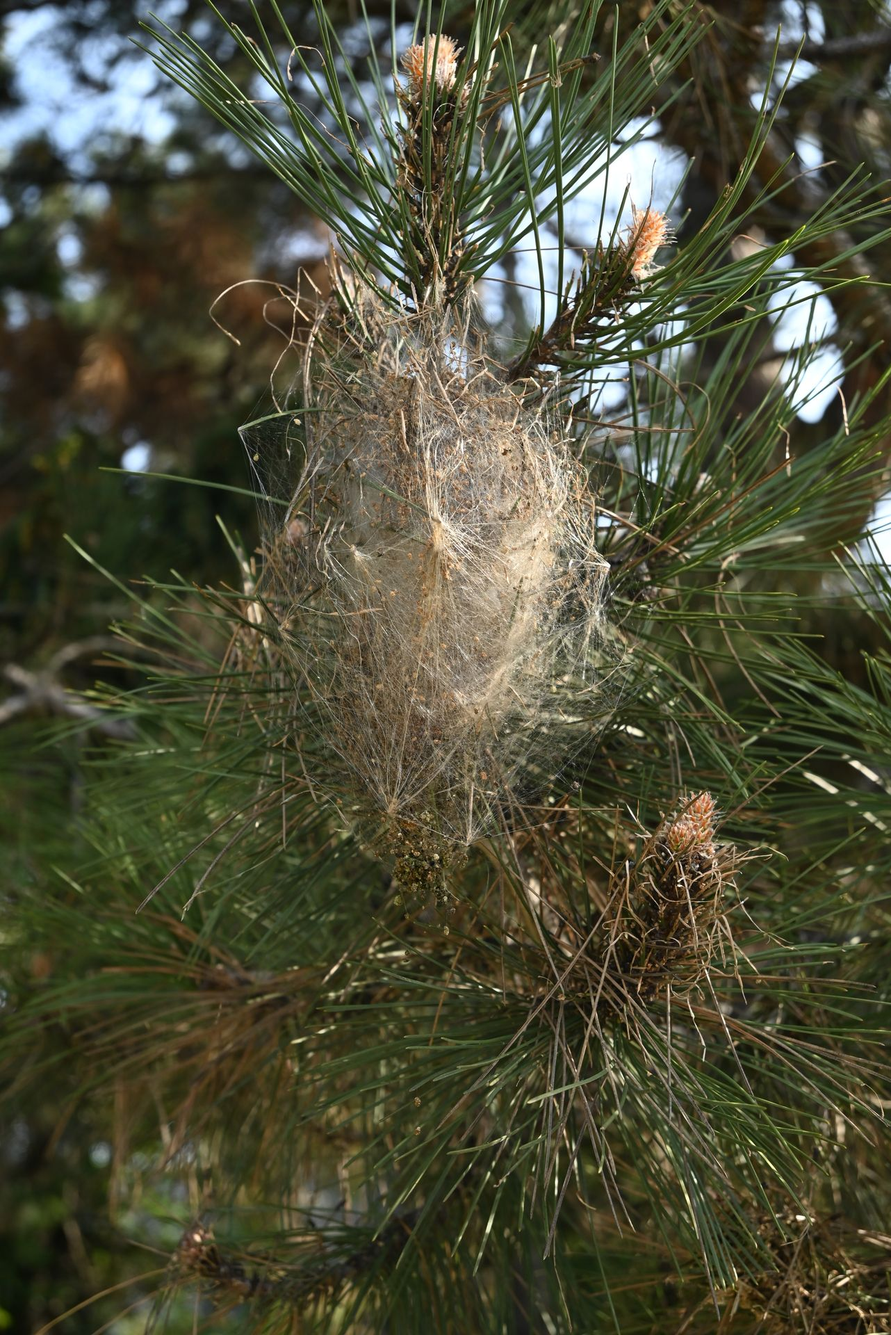thaumatopoea pityocampa jajno gnijezdo: (269, 326, 611, 840)
